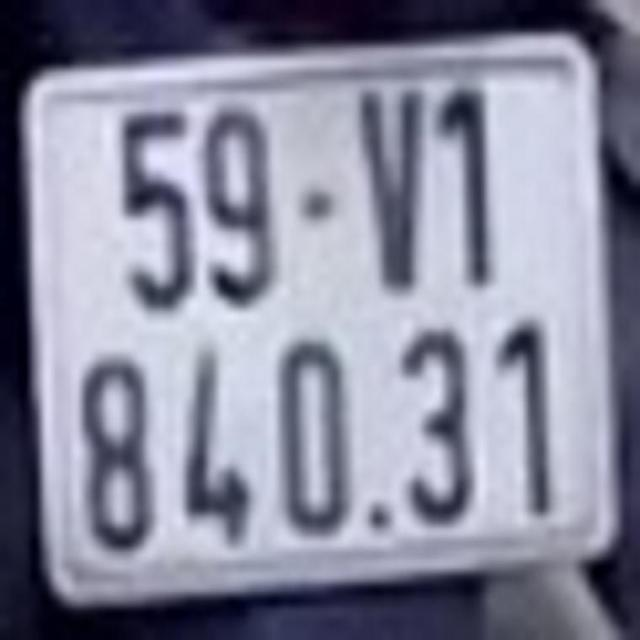0: (278, 334, 350, 530)
1: (442, 76, 494, 286), (502, 310, 557, 508)
3: (409, 320, 482, 525)
4: (180, 352, 250, 554)
5: (116, 101, 190, 302)
8: (74, 349, 155, 542)
9: (210, 104, 273, 316)
V: (358, 84, 424, 295)
